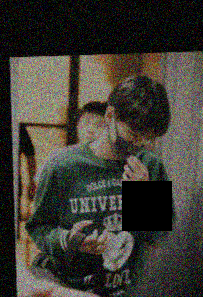with_mask: (112, 121, 156, 160)
without_mask: (78, 116, 108, 146)
